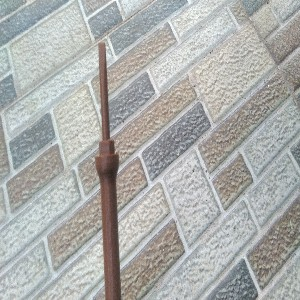obeng: (94, 41, 120, 300)
